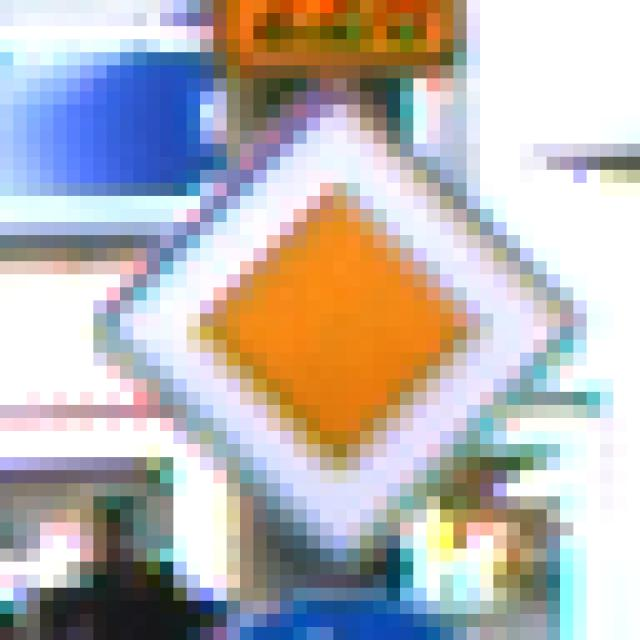Main Road: (81, 66, 574, 576)
